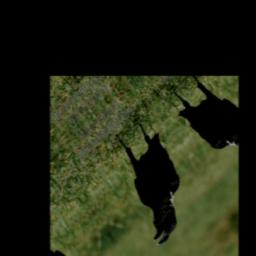Crow: (89, 107, 212, 252)
